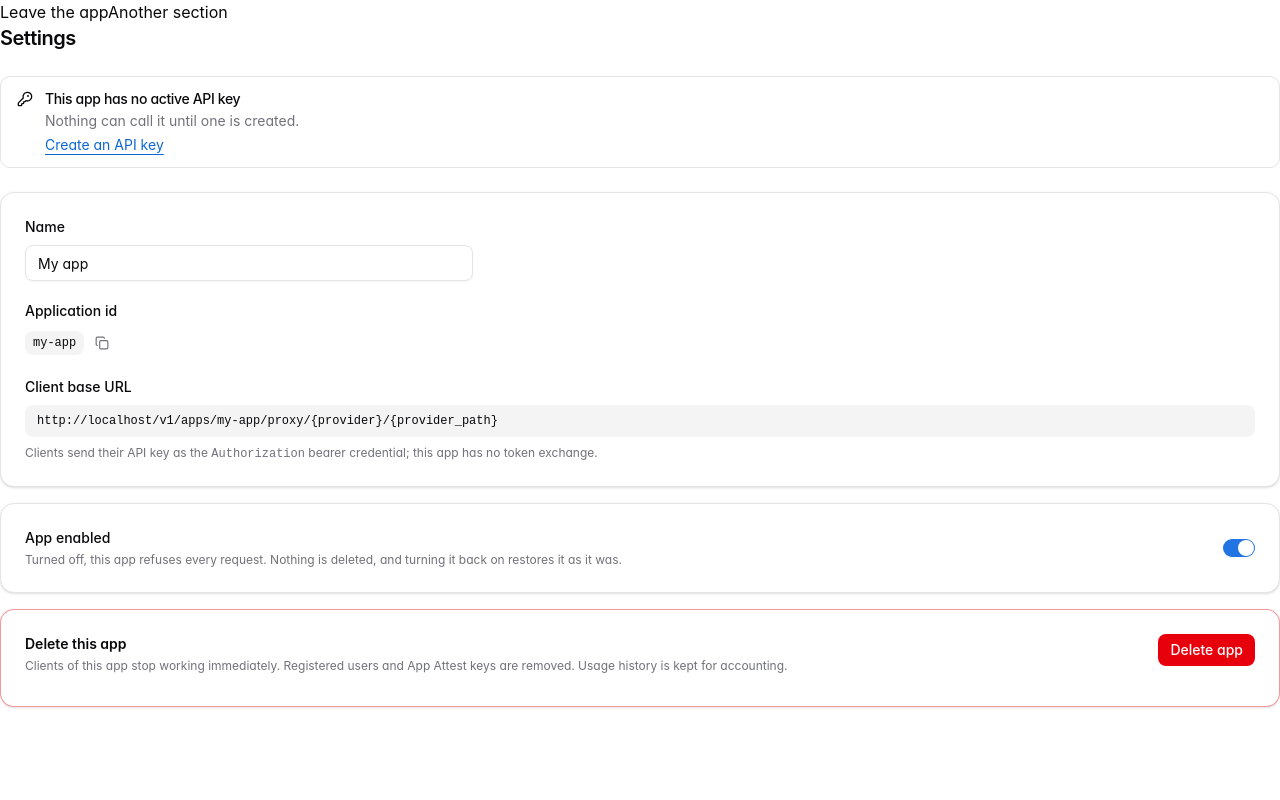
Scenario: leaving with unsaved changes › has the browser ask before the tab is closed or reloaded
Step 1. Click the switch named "app enabled" → (1239, 548), box [1223, 539, 1255, 557]
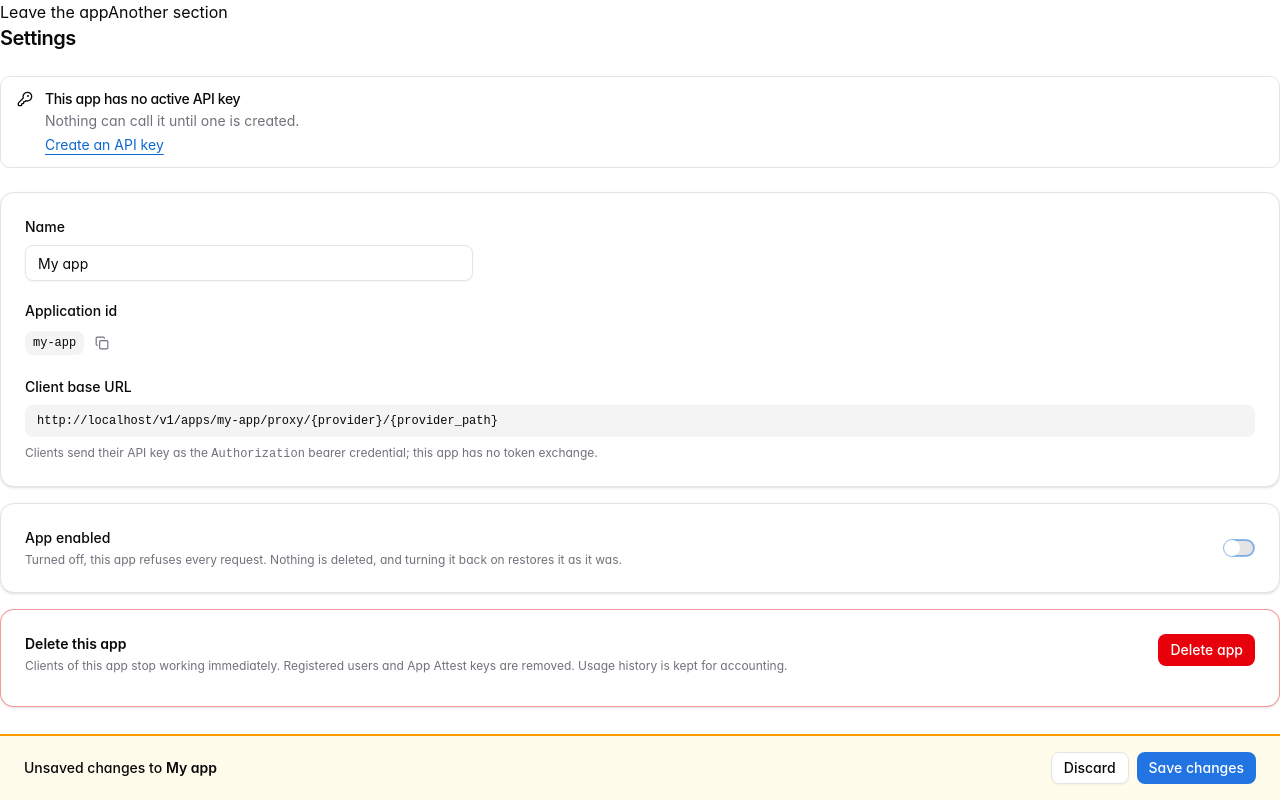
Result: the text "Unsaved changes to My app" is shown at [24, 758, 217, 778]
